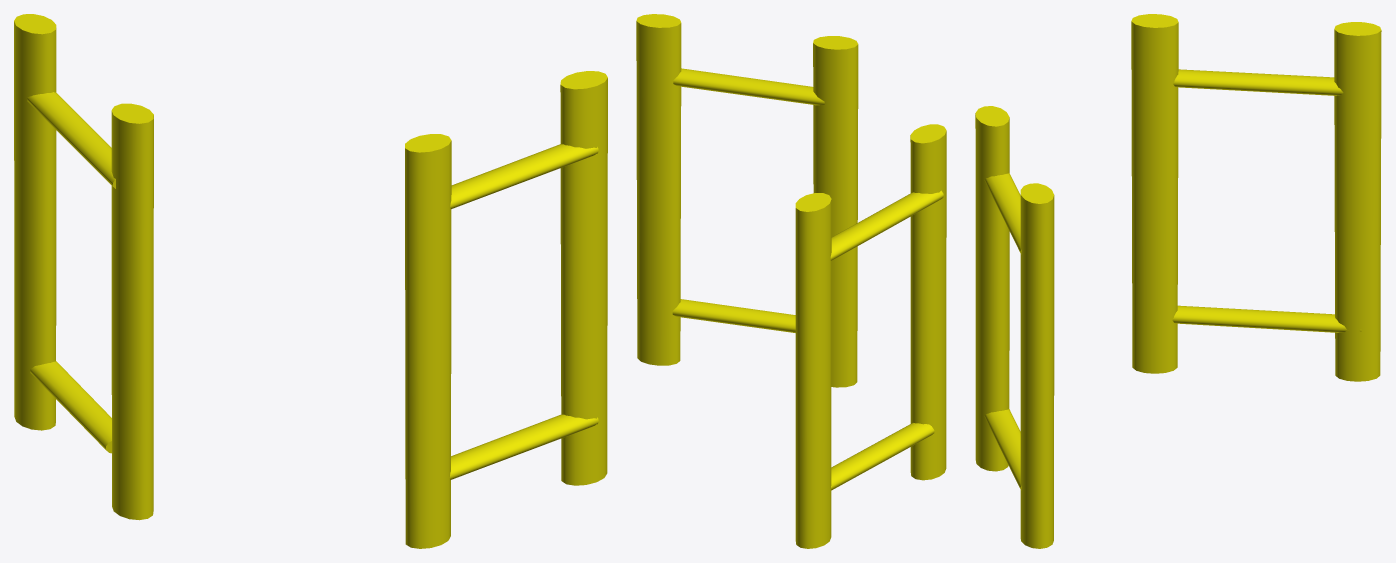
File: Rail_Support_RightTurn_01.fbx
3 views of the same model, side by side, from view 1: azimuth 30°, elevation 25°; view 2: azimuth 150°, elevation 25°; view 3: azimuth 270°, elevation 25° (orthographic). The views are drawn at different scales.
Parts seen in each view (by area): view 1: RightTurn_Support; view 2: RightTurn_Support; view 3: RightTurn_Support.
Boxes of the visible parts, x1=… form: RightTurn_Support: x1=14, y1=14, x2=607, y2=548; RightTurn_Support: x1=636, y1=14, x2=946, y2=548; RightTurn_Support: x1=975, y1=14, x2=1381, y2=548.
Size of the model in its own units: 2.26 by 2.07 by 2.14.
